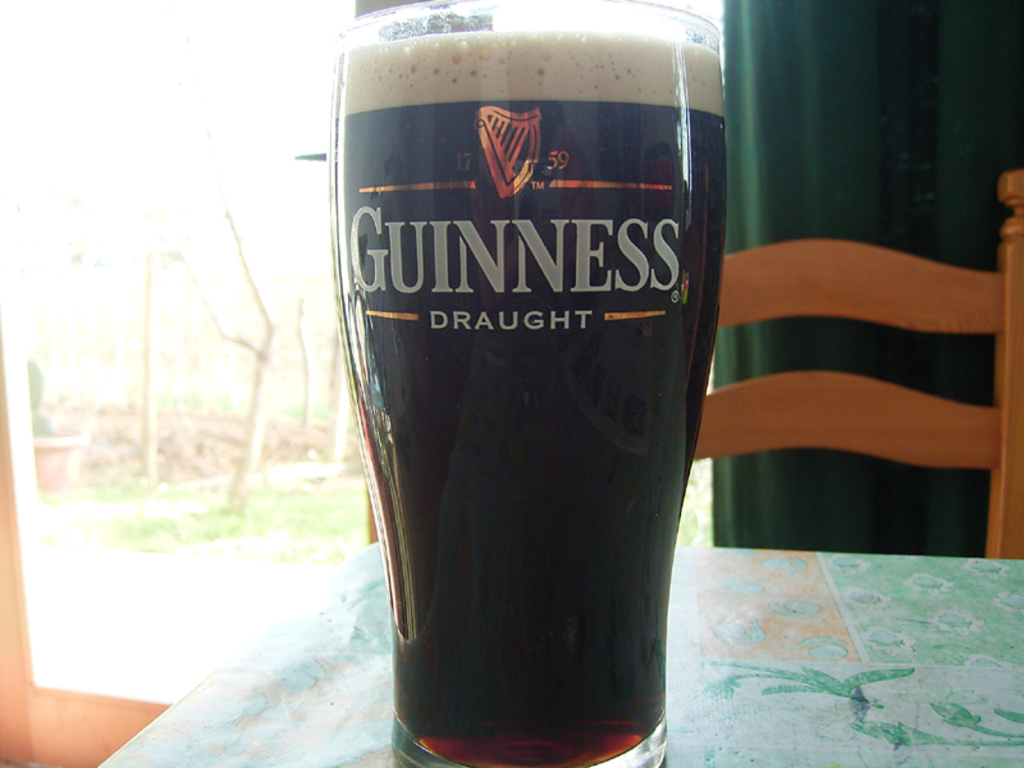Beer: (333, 0, 724, 768)
